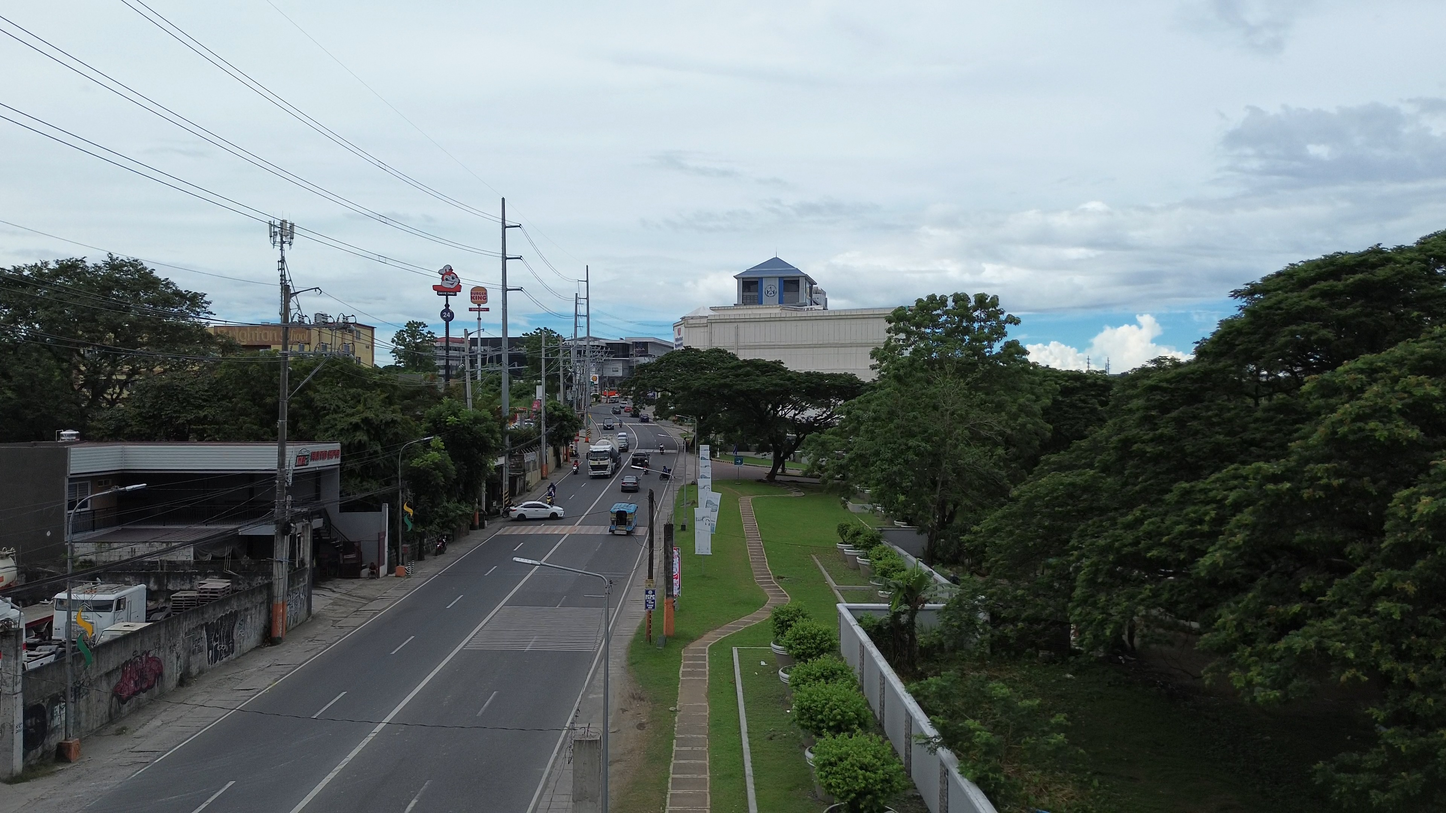car: (509, 501, 564, 519), (620, 474, 640, 492), (602, 420, 615, 430), (638, 413, 650, 423)
motorcycle: (433, 534, 447, 555)
vehicle: (52, 583, 146, 640), (587, 439, 619, 477), (98, 622, 149, 642), (609, 502, 637, 534), (630, 451, 649, 470), (616, 432, 630, 452), (637, 411, 650, 423), (602, 419, 615, 431), (611, 406, 622, 414)
